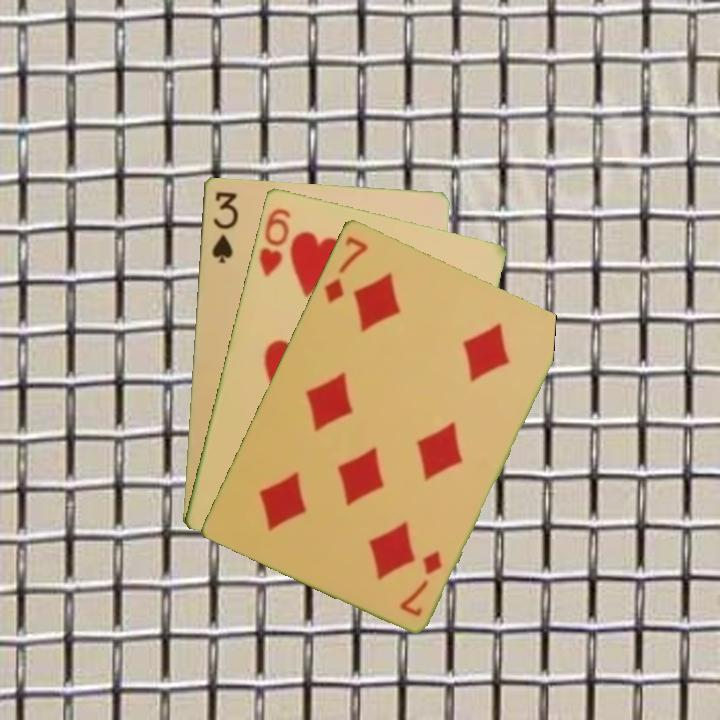3s: (208, 187, 240, 266)
6h: (255, 204, 293, 279)
7d: (320, 232, 371, 306), (396, 546, 445, 619)
